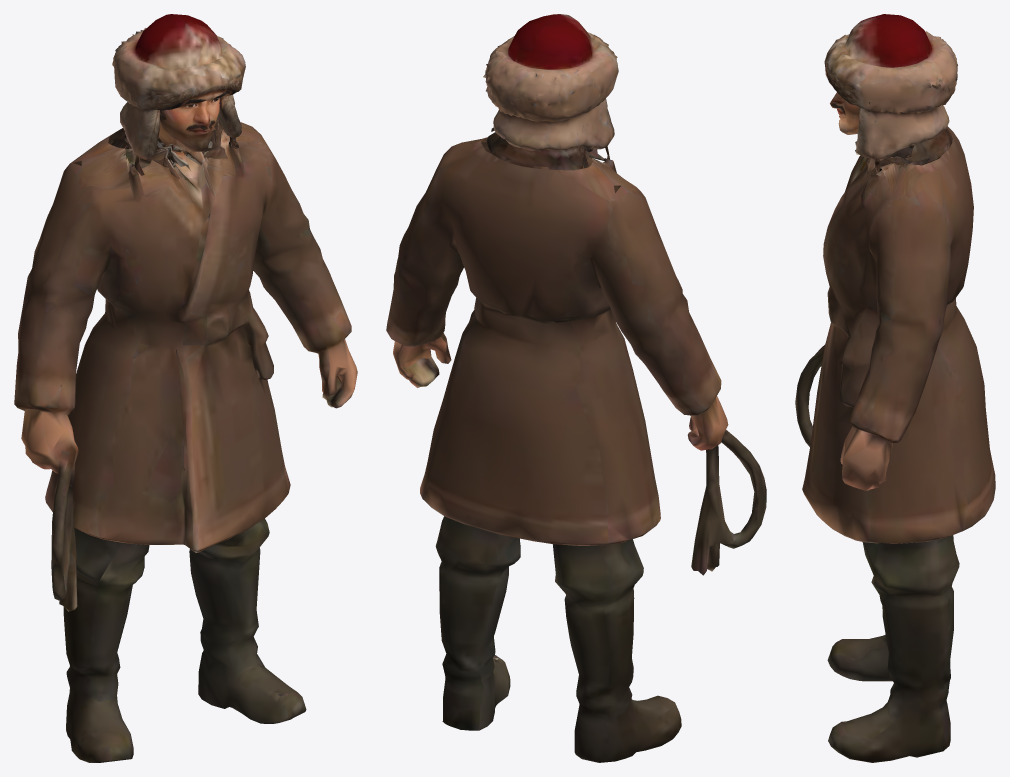
Rendered from herder-dauren.gen.phone.glb.
The picture shows the model from 3 angles, left to right: view 1: azimuth 30°, elevation 25°; view 2: azimuth 150°, elevation 25°; view 3: azimuth 270°, elevation 25°; orthographic projection.
Parts seen in each view (by area): view 1: herder-dauren.raw; view 2: herder-dauren.raw; view 3: herder-dauren.raw.
Part boxes in pixels (x1,y1,x2,y2): herder-dauren.raw: (14, 14, 357, 762); herder-dauren.raw: (386, 14, 766, 762); herder-dauren.raw: (795, 14, 995, 762).
Size of the model in its own units: 0.9165 by 1.85 by 0.4826.
Materials: 1 (1 with a texture image).
